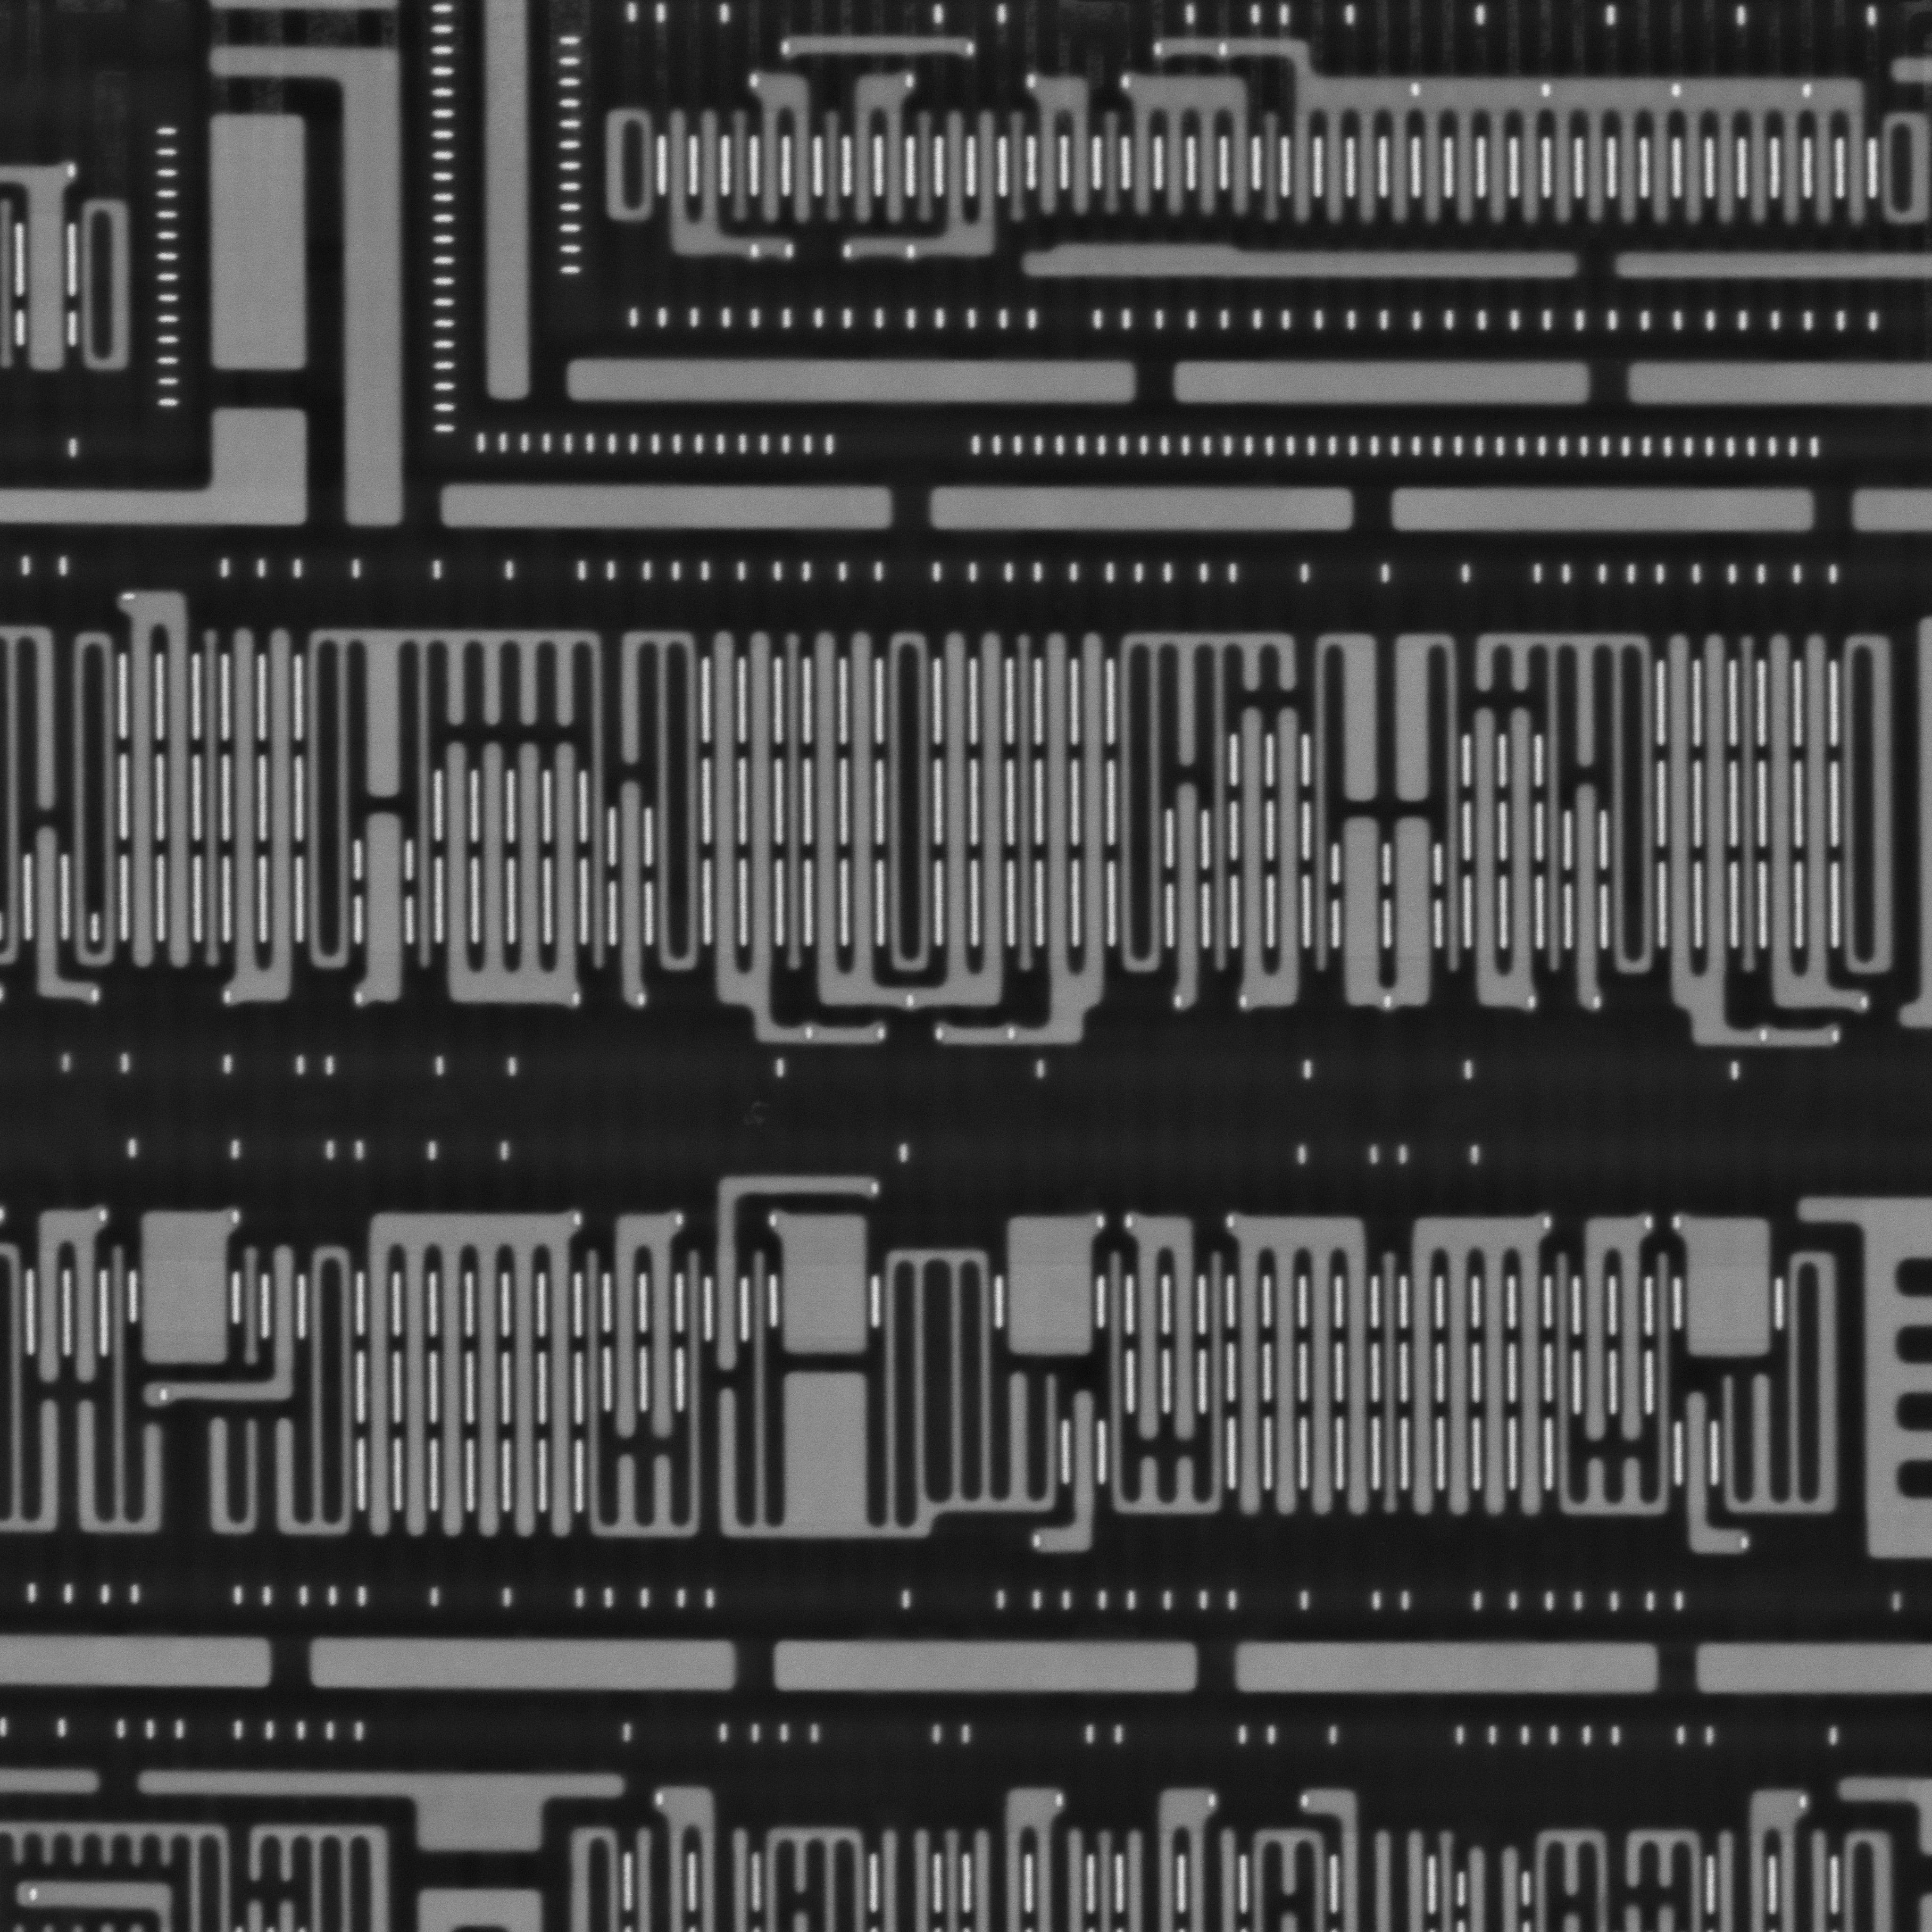circularDummy: (212, 39, 410, 527), (568, 357, 1139, 407), (311, 1637, 741, 1697), (209, 106, 306, 370), (441, 485, 893, 536), (775, 1640, 1201, 1693), (1228, 1642, 1663, 1693), (1177, 357, 1591, 409), (931, 485, 1359, 534), (1392, 487, 1821, 533)
doubleGate: (701, 628, 897, 1046), (1656, 633, 1847, 1051), (934, 623, 1111, 1047), (1757, 633, 1874, 1012), (113, 589, 198, 968), (226, 619, 304, 1008), (1223, 699, 1313, 1014), (1460, 697, 1545, 1012), (1329, 817, 1447, 1014), (656, 106, 803, 262), (1569, 1214, 1658, 1451), (1125, 1207, 1208, 1445), (603, 1201, 685, 1437), (30, 1203, 110, 1376), (1023, 67, 1104, 223), (748, 65, 826, 219), (844, 67, 918, 228)
multiGate: (1155, 32, 1881, 228), (800, 626, 1019, 1010), (357, 1205, 586, 1541), (1221, 1210, 1384, 1525), (1403, 1214, 1553, 1522), (432, 738, 591, 1010), (1115, 71, 1261, 225)
singleGate: (706, 1164, 883, 1376), (142, 1240, 308, 1403), (1670, 1212, 1787, 1375), (129, 1200, 241, 1366), (994, 1205, 1111, 1357), (770, 1207, 885, 1355), (19, 823, 101, 1001), (1674, 1391, 1759, 1555), (354, 809, 416, 1026), (1031, 1384, 1106, 1559), (1560, 784, 1614, 1008), (607, 773, 658, 1005), (1161, 780, 1212, 1007)
